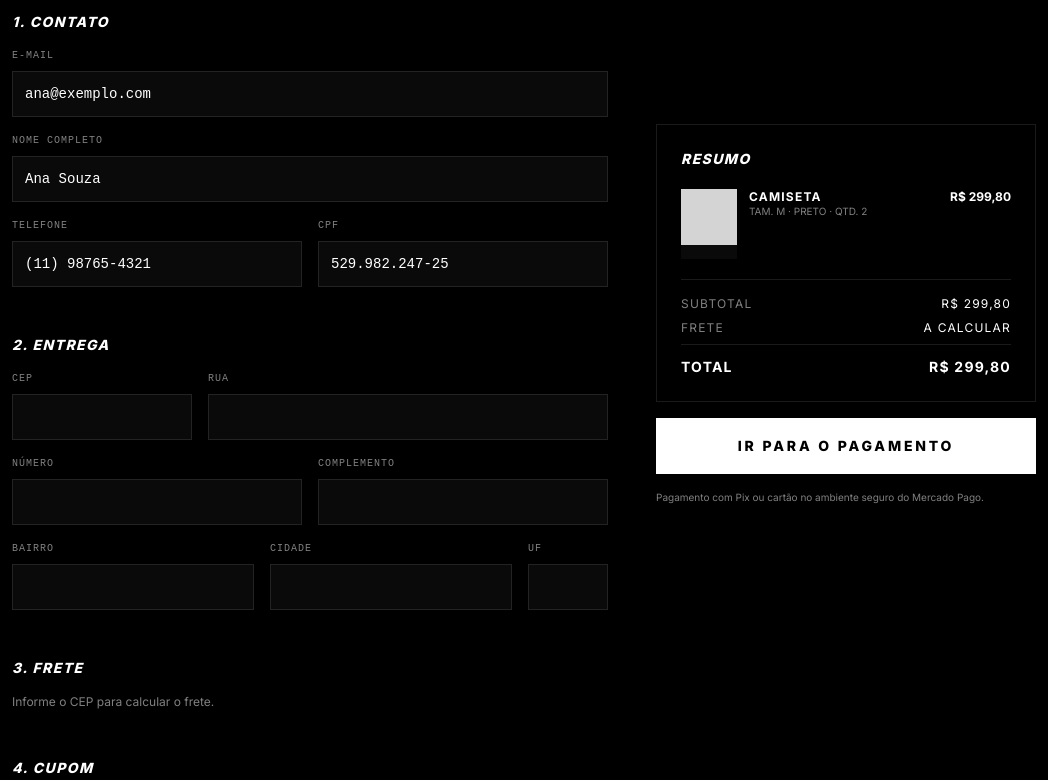
Test: checkout › resposta antiga do CEP não sobrescreve a do CEP corrigido
Expected: the text "Camiseta" is shown, [749,189,822,204]
Step 1. Type "01001000" into the field labelled "CEP" → (102, 417), box [12,394,192,440]
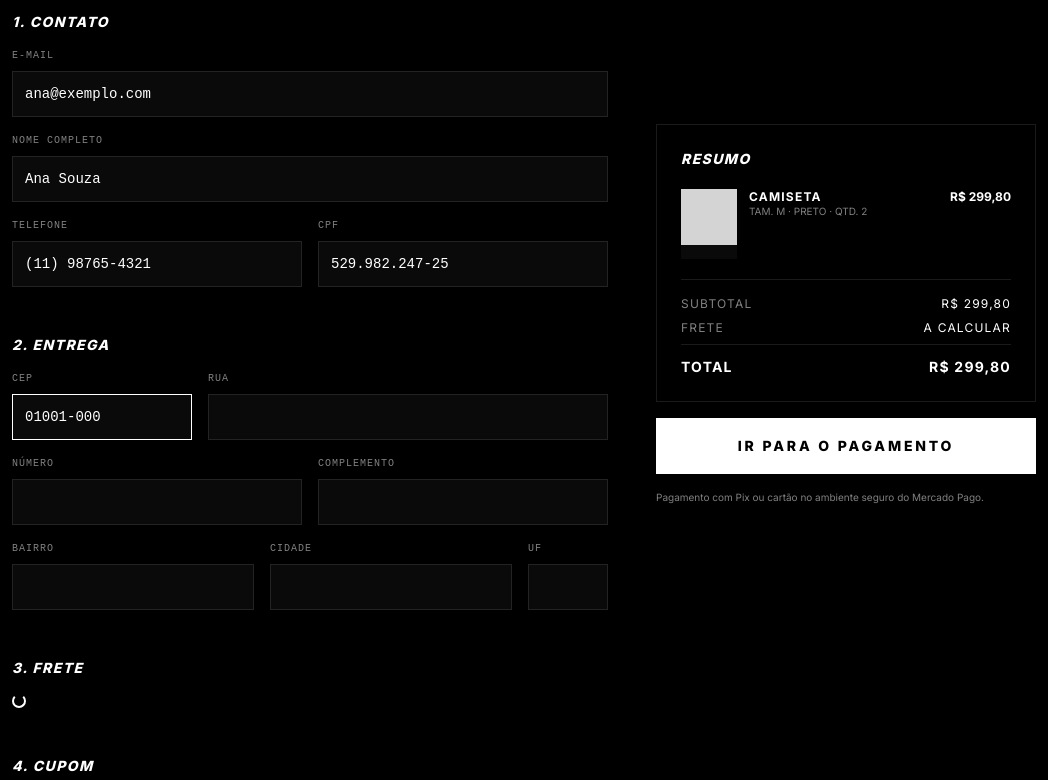
Step 2. Replace the text in the field labelled "CEP" with "20040002" → (102, 417), box [12,394,192,440]
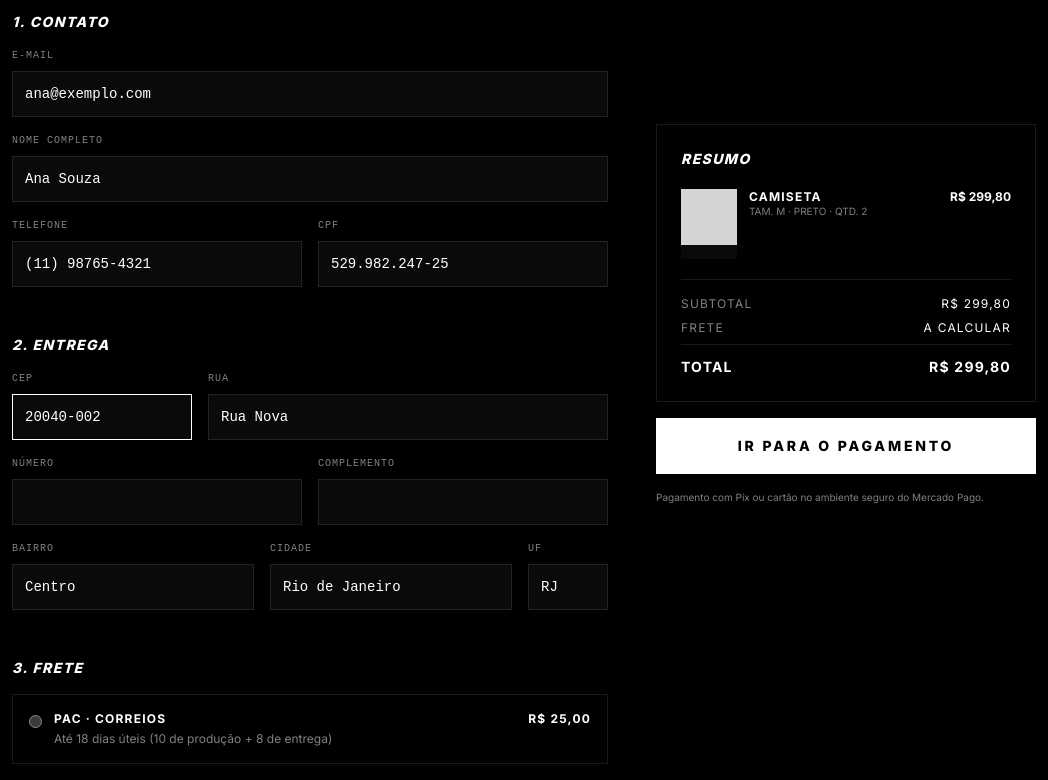
Result: the field labelled "Rua" holds "Rua Nova" at [208,394,608,440]
